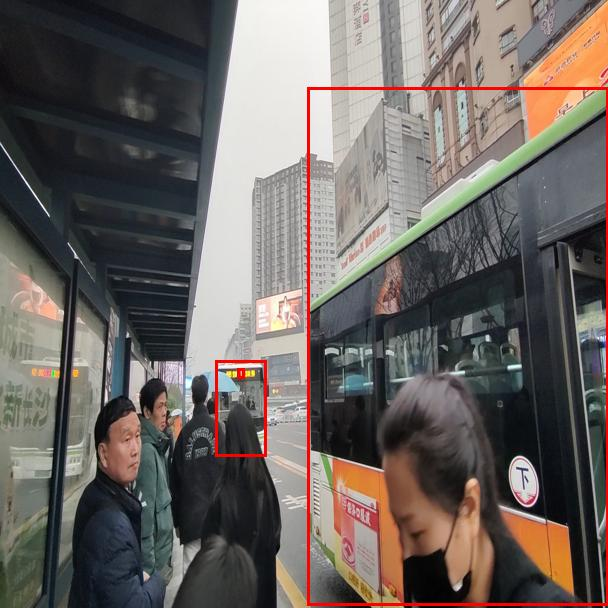bus: (307, 87, 608, 605), (215, 360, 266, 456)
screen: (237, 368, 244, 378)
